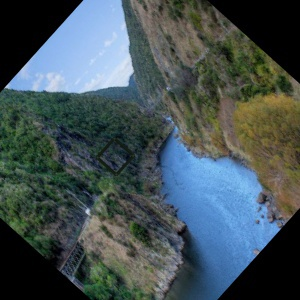square: (94, 137, 134, 176)
